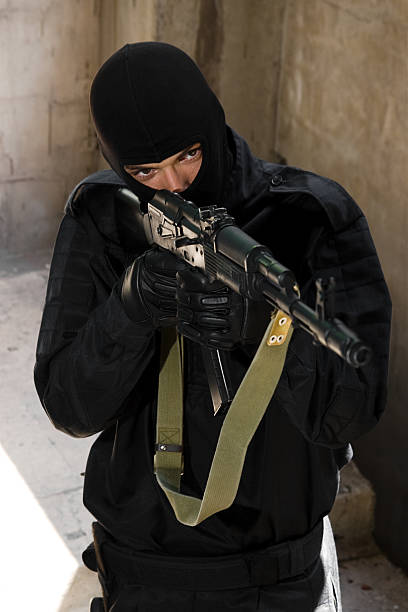gun: (115, 185, 374, 422)
